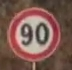limite 90: (5, 6, 61, 62)
